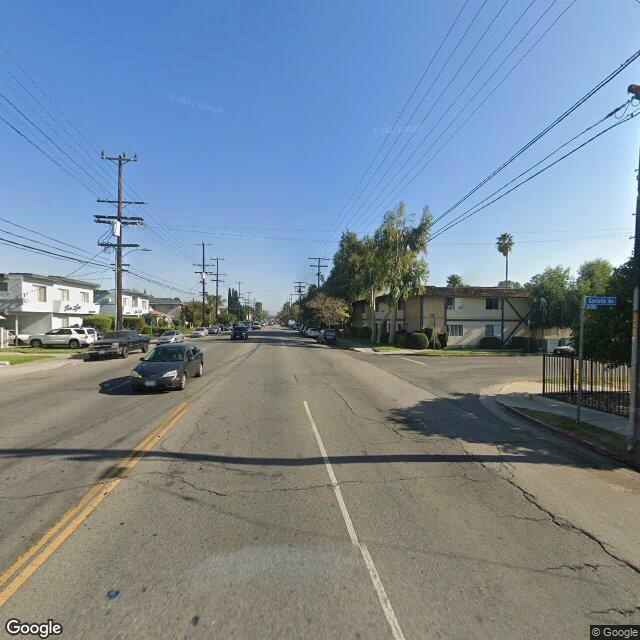crack: (442, 433, 630, 572), (0, 472, 490, 509), (320, 376, 430, 441), (165, 401, 215, 466)
